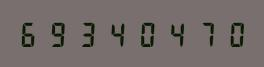four: (104, 20, 132, 47), (162, 20, 190, 47)
nine: (46, 20, 74, 47)
seven: (191, 20, 219, 47)
six: (17, 20, 45, 47)
three: (75, 20, 103, 47)
zero: (133, 20, 161, 47), (220, 20, 248, 47)
